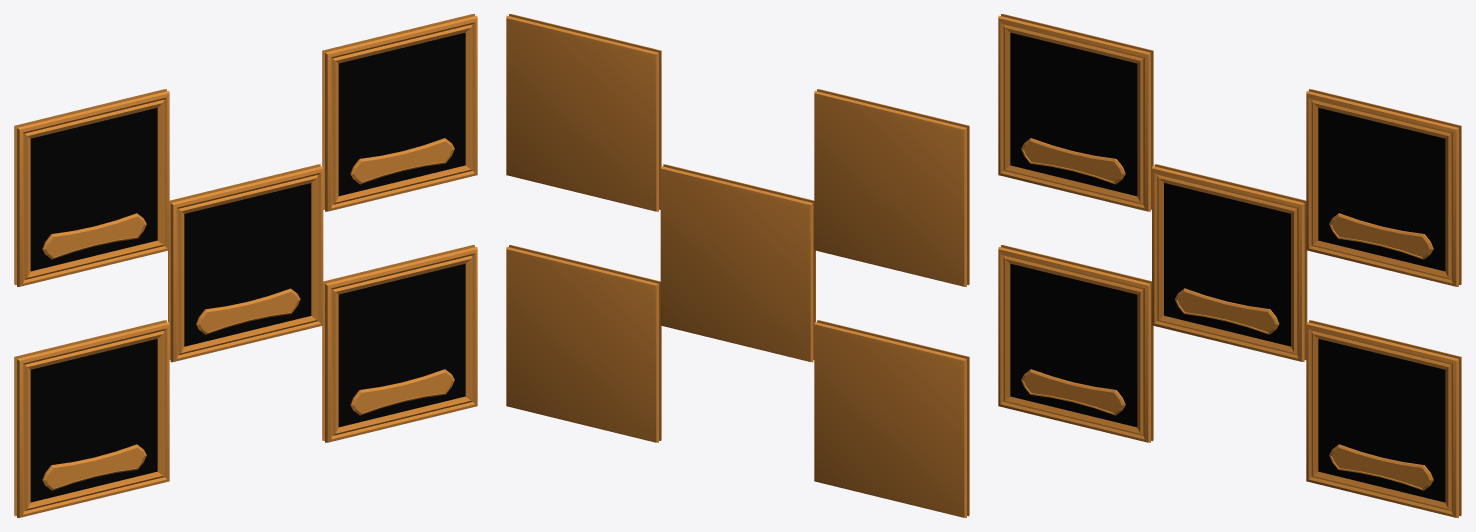
File: cadre_ekip.fbx
The picture shows the model from 3 angles, left to right: view 1: azimuth 30°, elevation 25°; view 2: azimuth 150°, elevation 25°; view 3: azimuth 330°, elevation 25°; orthographic projection.
Parts seen in each view (by area): view 1: Morgan CNUDDE, Théo LEFIN, Paul BERNARD, Théo LEICHT, Pierre DEBUSSCHER-GALY; view 2: Morgan CNUDDE, Théo LEFIN, Paul BERNARD, Théo LEICHT, Pierre DEBUSSCHER-GALY; view 3: Théo LEICHT, Paul BERNARD, Pierre DEBUSSCHER-GALY, Théo LEFIN, Morgan CNUDDE.
Boxes of the visible parts, x1,y1,x2,y2 form: Morgan CNUDDE: (14,89,169,286); Théo LEFIN: (14,320,169,517); Paul BERNARD: (322,245,477,442); Théo LEICHT: (322,14,477,211); Pierre DEBUSSCHER-GALY: (168,164,323,362); Morgan CNUDDE: (814,89,969,286); Théo LEFIN: (814,320,969,517); Paul BERNARD: (506,245,661,442); Théo LEICHT: (506,14,661,211); Pierre DEBUSSCHER-GALY: (660,164,815,362); Théo LEICHT: (1306,89,1461,286); Paul BERNARD: (1306,320,1461,517); Pierre DEBUSSCHER-GALY: (1152,164,1307,361); Théo LEFIN: (998,245,1153,442); Morgan CNUDDE: (998,14,1153,211).
Size of the model in its own units: 60.53 by 49.06 by 1.58.
